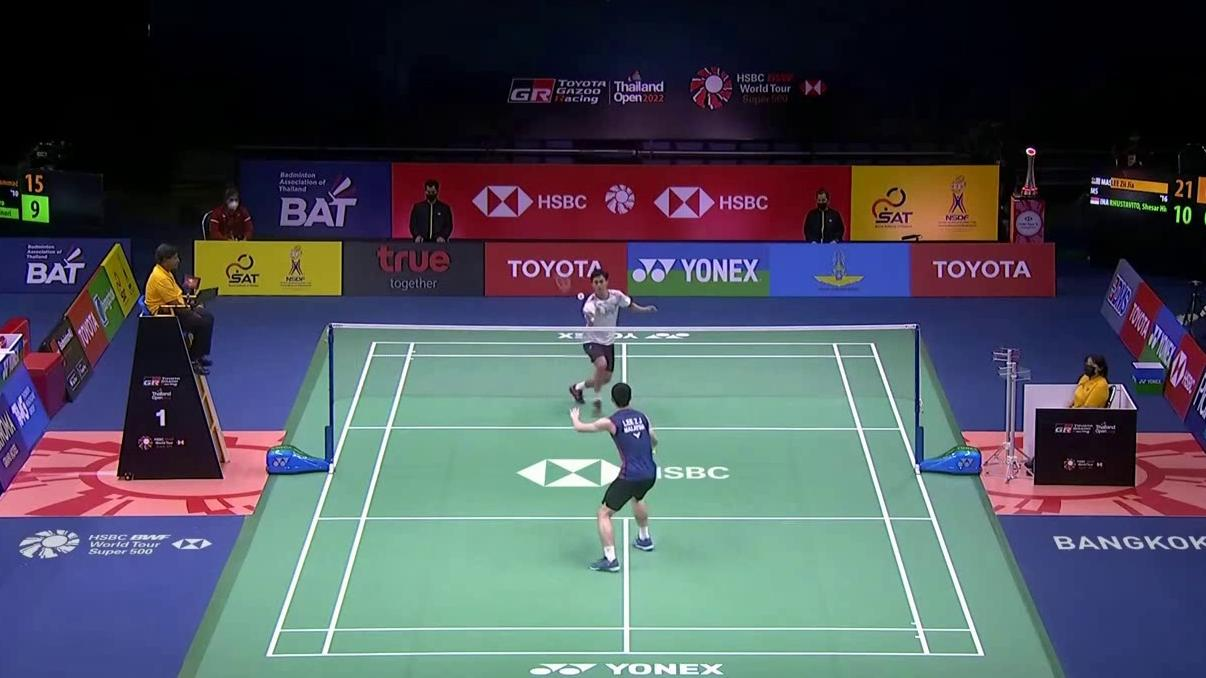racket: (555, 273, 590, 321)
shuttle: (577, 292, 584, 300)
